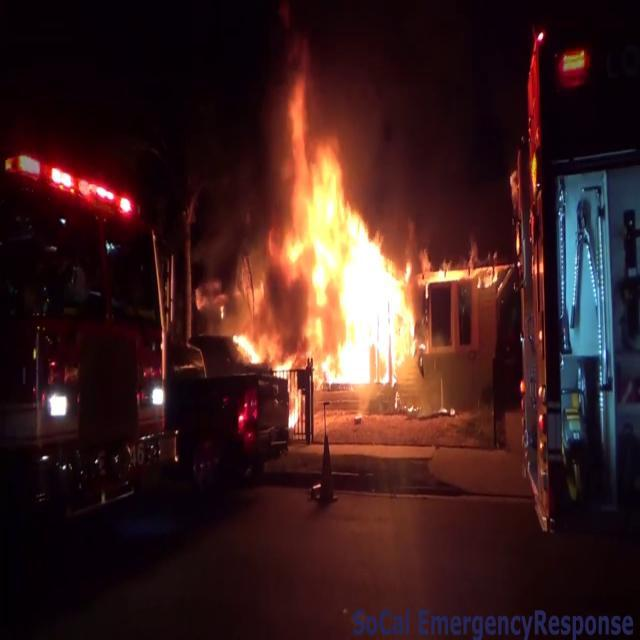Fire: (231, 72, 418, 388), (428, 250, 502, 290)
